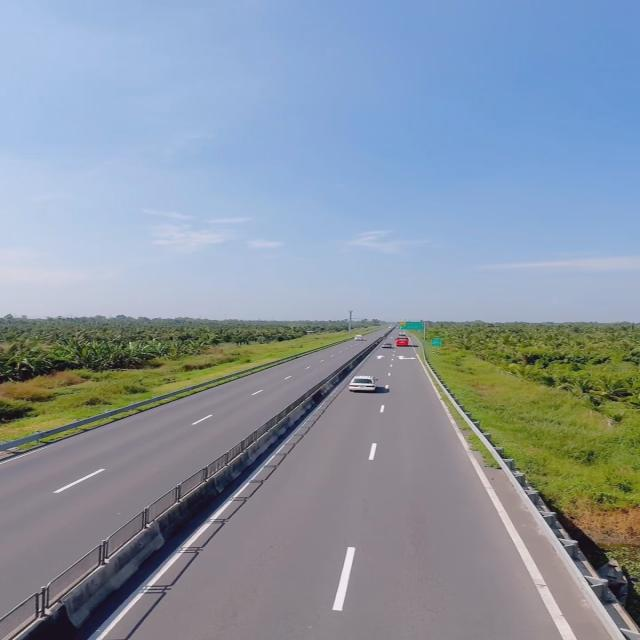car: (350, 374, 380, 393)
